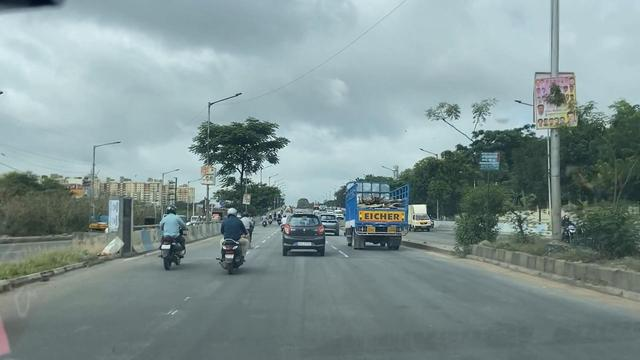HMV: (352, 181, 401, 246)
LMV: (276, 209, 328, 259), (218, 201, 249, 273), (158, 204, 183, 266)
